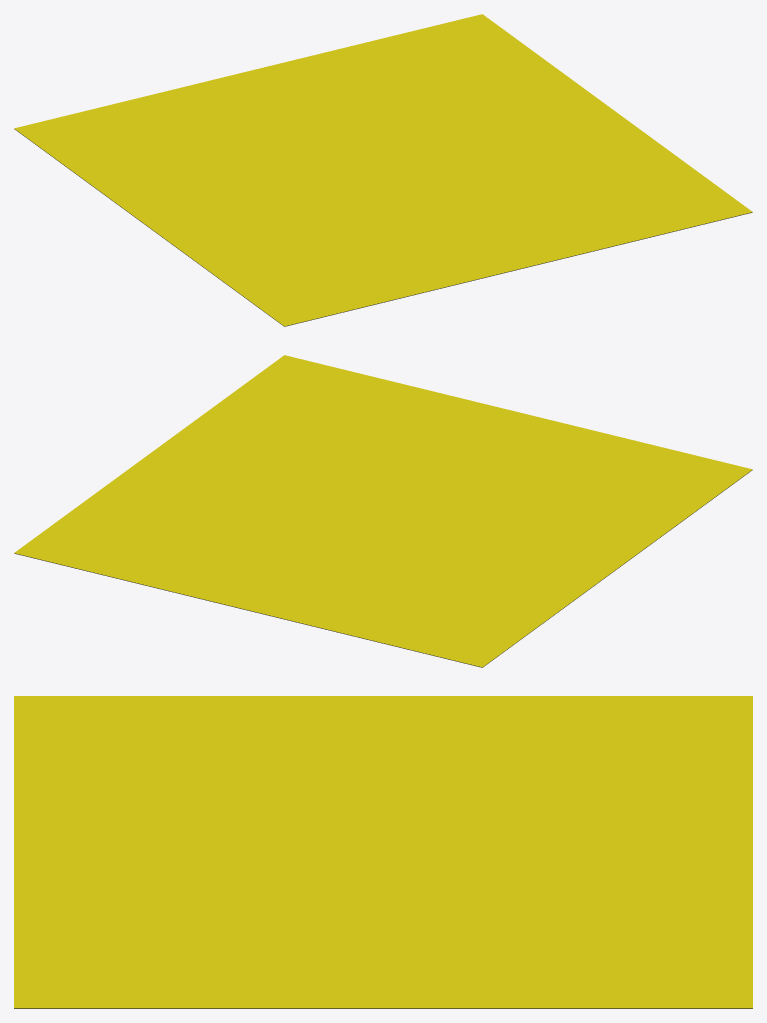
File: [prototype]mall_groundfloor.glb
3 renders of one model, top to bottom at view 1: azimuth 30°, elevation 25°; view 2: azimuth 150°, elevation 25°; view 3: azimuth 270°, elevation 25°, orthographic. The views are drawn at different scales.
Parts seen in each view (by area): view 1: mall_storefront_plot, mall_storefront_plot_spacer; view 2: mall_storefront_plot, mall_storefront_plot_spacer; view 3: mall_storefront_plot, mall_storefront_plot_spacer.
Boxes of the visible parts, bbox=[...] form: mall_storefront_plot: bbox=[14, 14, 752, 326]; mall_storefront_plot_spacer: bbox=[14, 129, 752, 326]; mall_storefront_plot: bbox=[14, 355, 752, 667]; mall_storefront_plot_spacer: bbox=[14, 470, 752, 667]; mall_storefront_plot: bbox=[14, 696, 752, 1008]; mall_storefront_plot_spacer: bbox=[14, 1008, 752, 1008].
Size of the model in its own units: 6 by 0.006 by 6.
